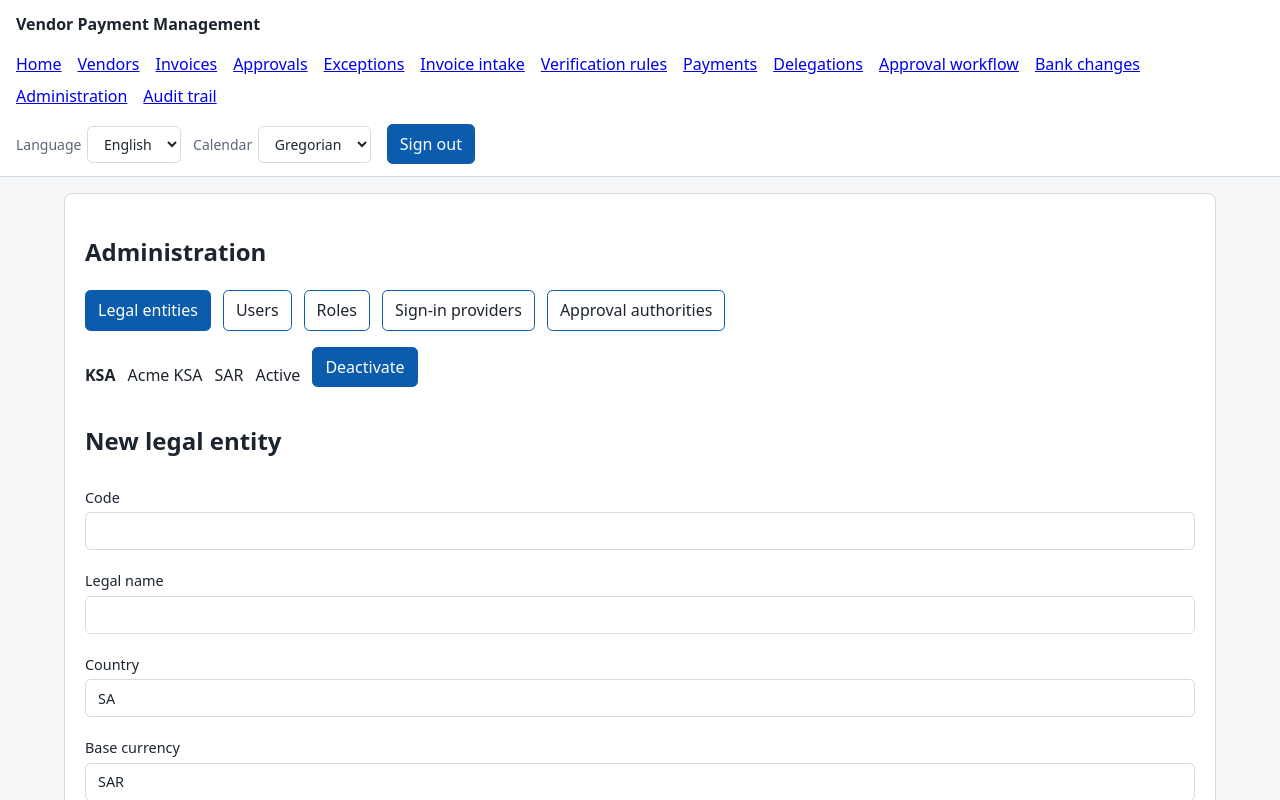
administration › switches between tabs and toggles a user
Expected: the text "Acme KSA" is shown, x1=128 y1=363 x2=202 y2=387
Click the tab "Users" at (257, 310), box x1=223 y1=290 x2=292 y2=331
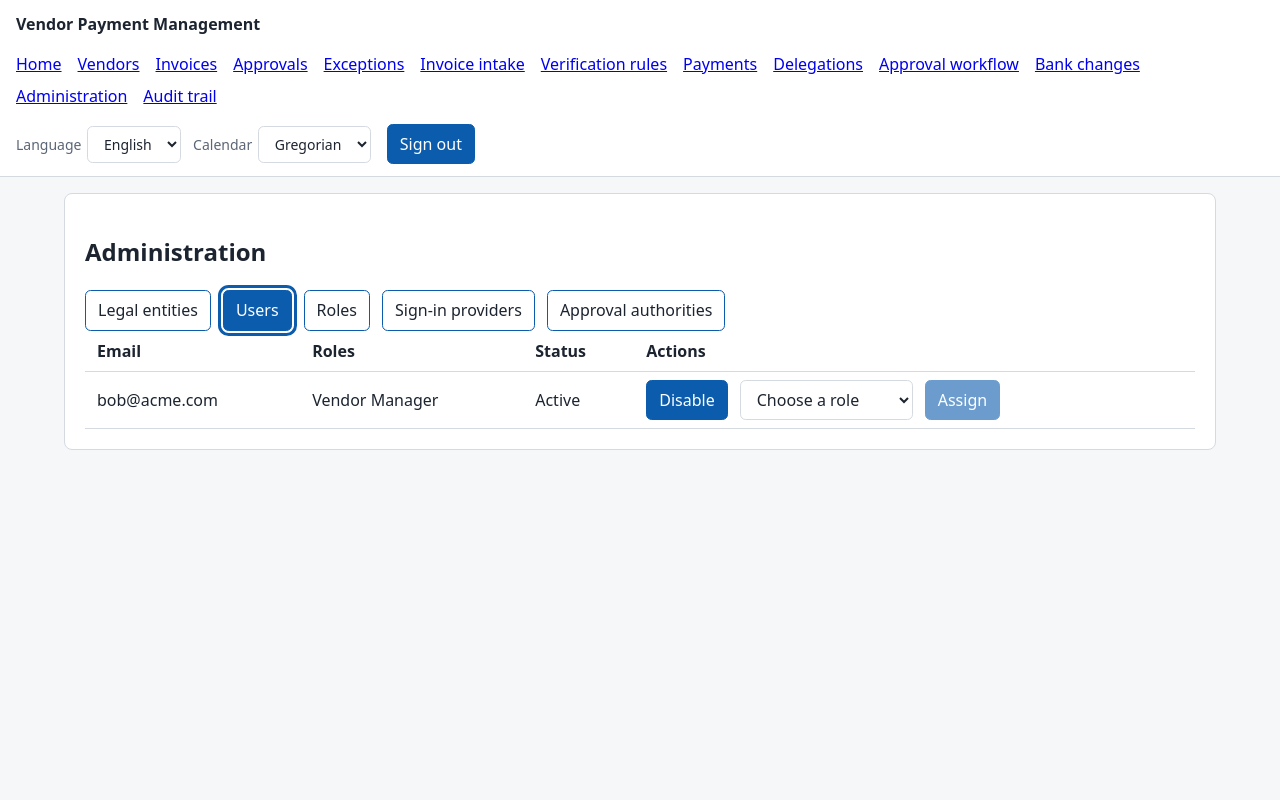
Click the button "Disable" at (687, 400), box x1=646 y1=380 x2=728 y2=420
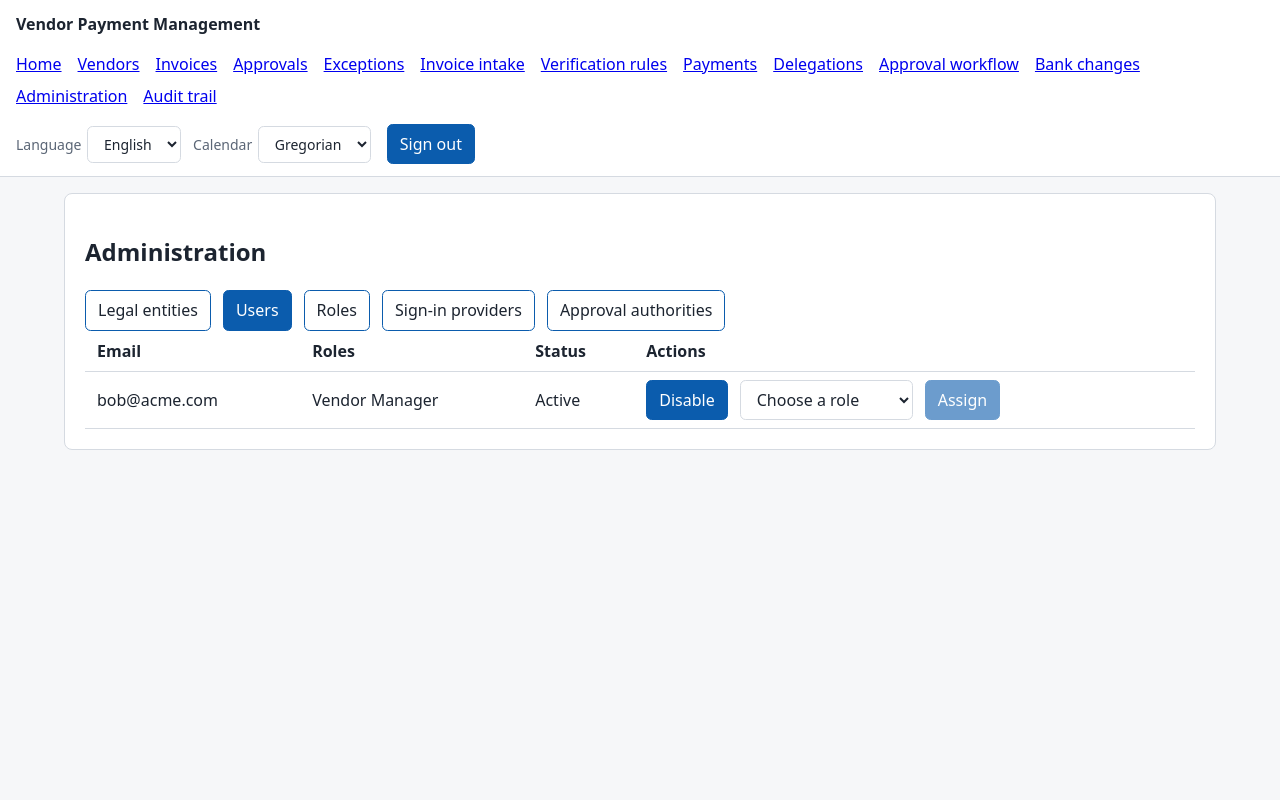
Click the tab "Roles" at (337, 310), box x1=304 y1=290 x2=370 y2=331
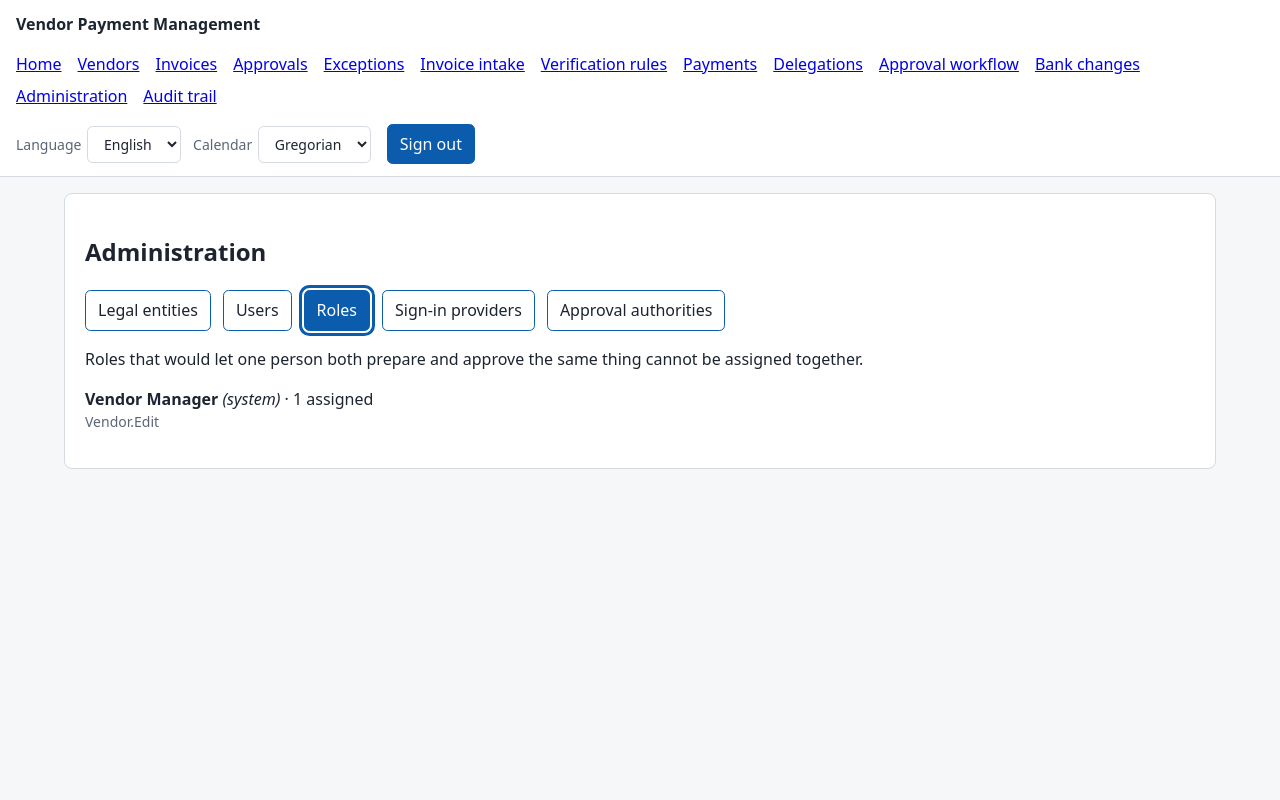
Expected: the text "Vendor.Edit" is shown, x1=85 y1=412 x2=159 y2=431
